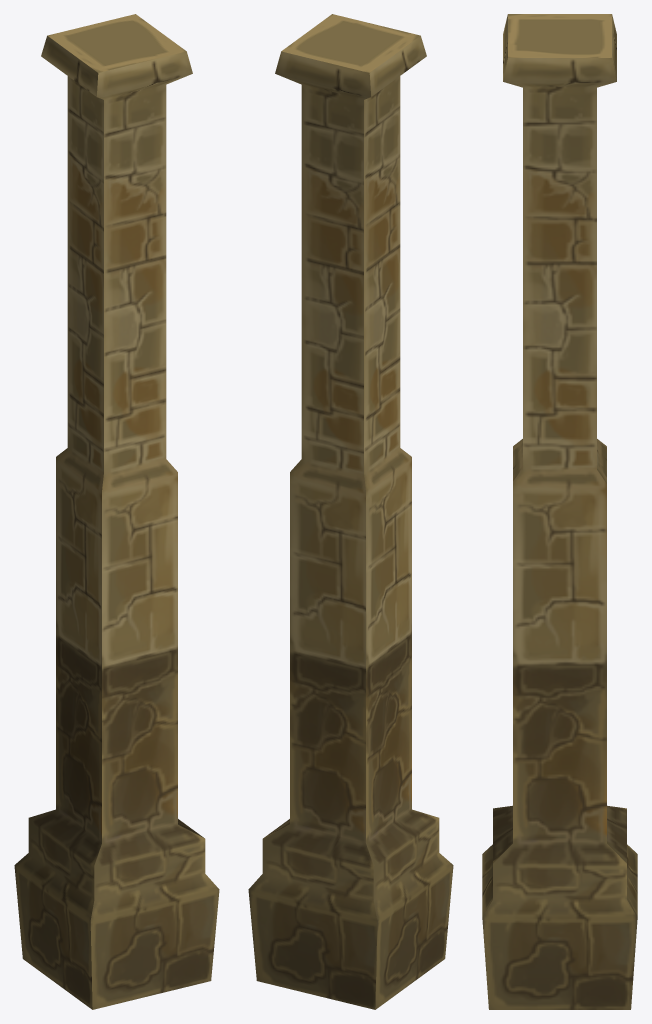
The model's file is columnn.obj.
3 renders of one model, left to right at view 1: azimuth 30°, elevation 25°; view 2: azimuth 150°, elevation 25°; view 3: azimuth 270°, elevation 25°, orthographic.
Visible parts, largest first — view 1: pCube2; view 2: pCube2; view 3: pCube2.
Part boxes in pixels (left/top/right/bottom): pCube2: left=14, top=14, right=219, bottom=1009; pCube2: left=248, top=14, right=453, bottom=1009; pCube2: left=482, top=14, right=637, bottom=1009.
Size of the model in its own units: 0.2912 by 2 by 0.2979.
Materials: 1 (1 with a texture image).
